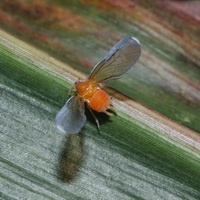insect: (55, 36, 140, 133)
